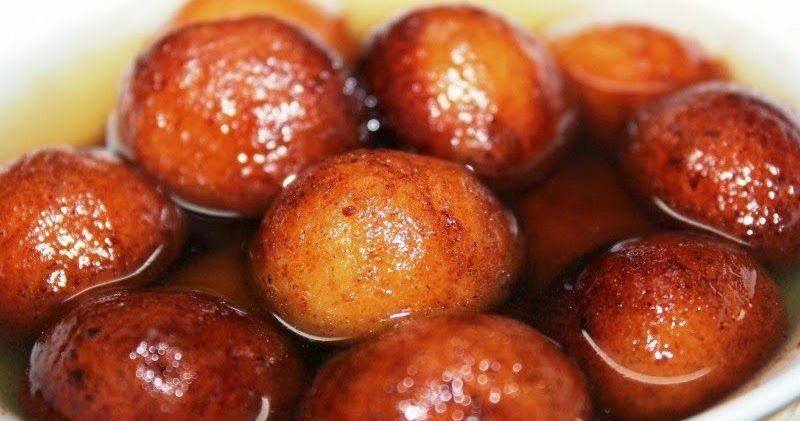GulabJamun: (251, 147, 525, 343), (116, 13, 355, 219), (349, 4, 577, 191), (548, 238, 788, 413), (20, 290, 301, 421), (0, 145, 180, 330), (623, 82, 800, 270), (297, 313, 595, 421), (552, 20, 705, 108)
